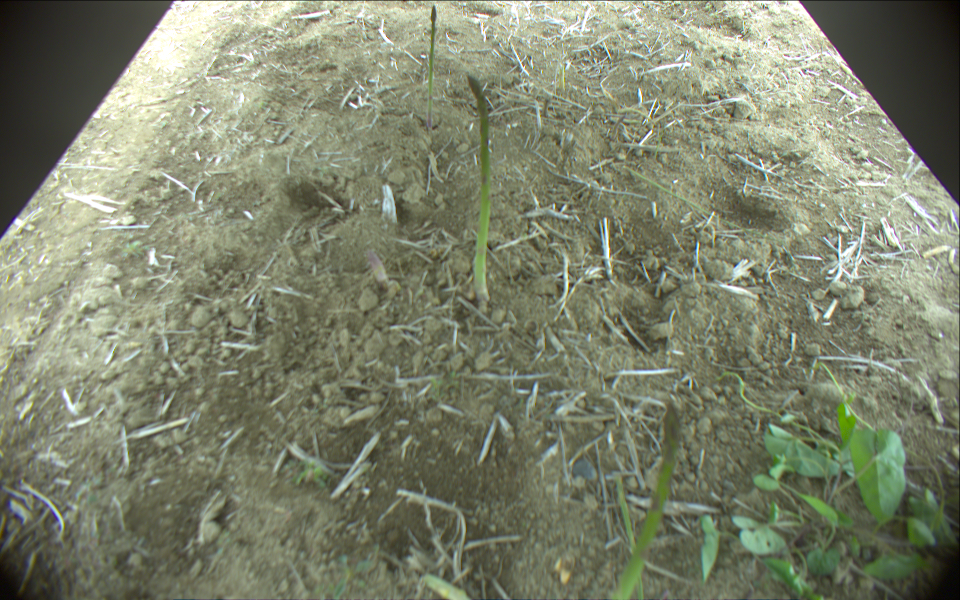aspa: (602, 401, 683, 600), (465, 76, 493, 303), (425, 7, 438, 134), (423, 574, 470, 600), (370, 255, 394, 295)
